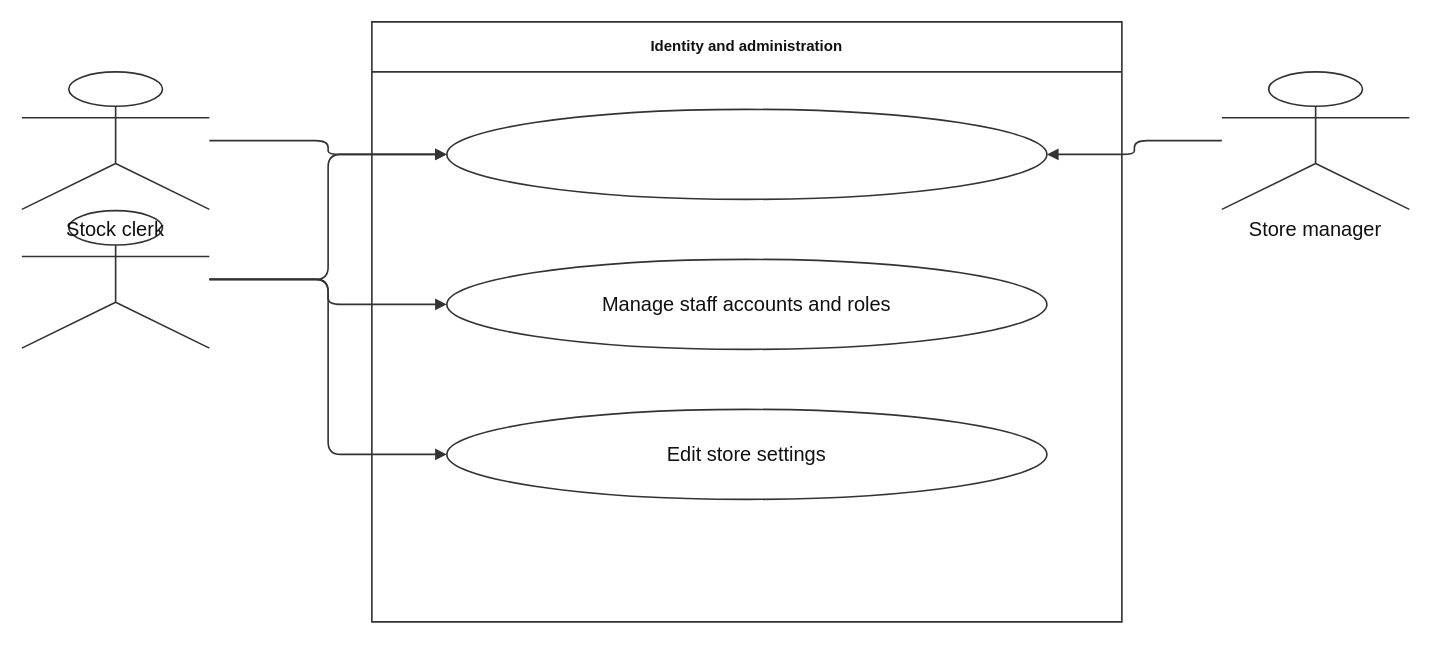
The diagram is 1433 pixels wide and 645 high, and some of its shapes have lost their labels. The shapes that lost their labels are listed below. From the top down, each one's centre as x and y in pixels, then its label:
pixel 746 154: Sign in / sign out
pixel 115 278: Administrator
